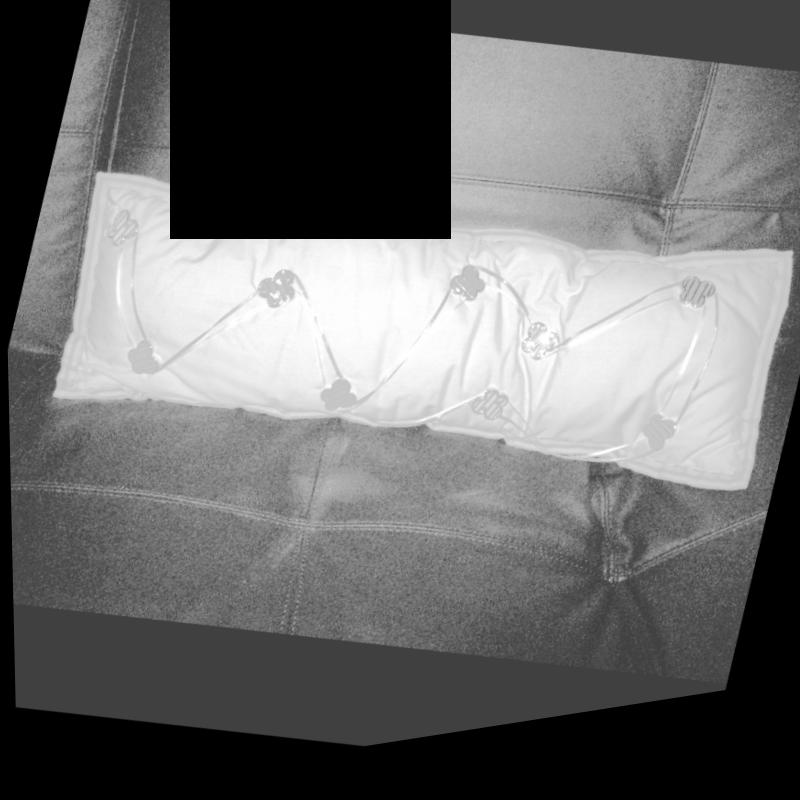pillow: (89, 117, 783, 585)
